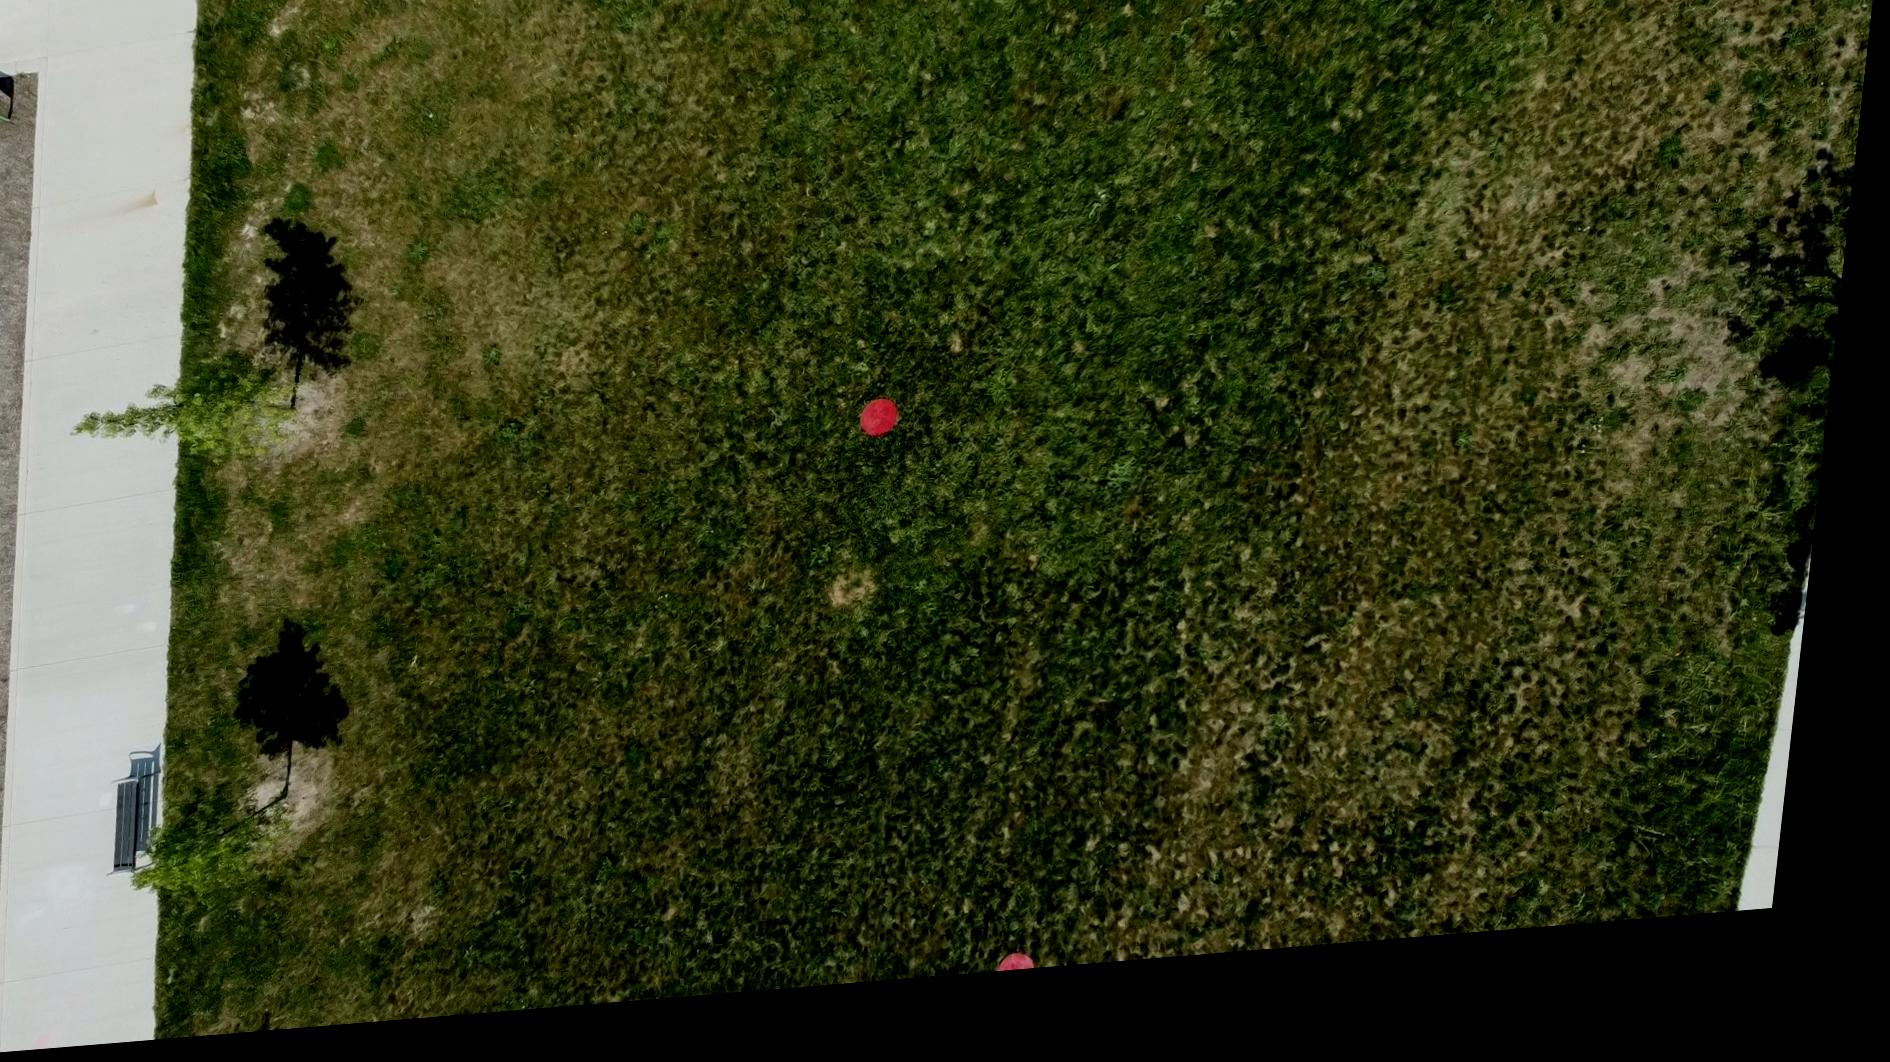Blue: (1209, 0, 1254, 18)
Red: (868, 412, 915, 454), (1019, 969, 1064, 991)
